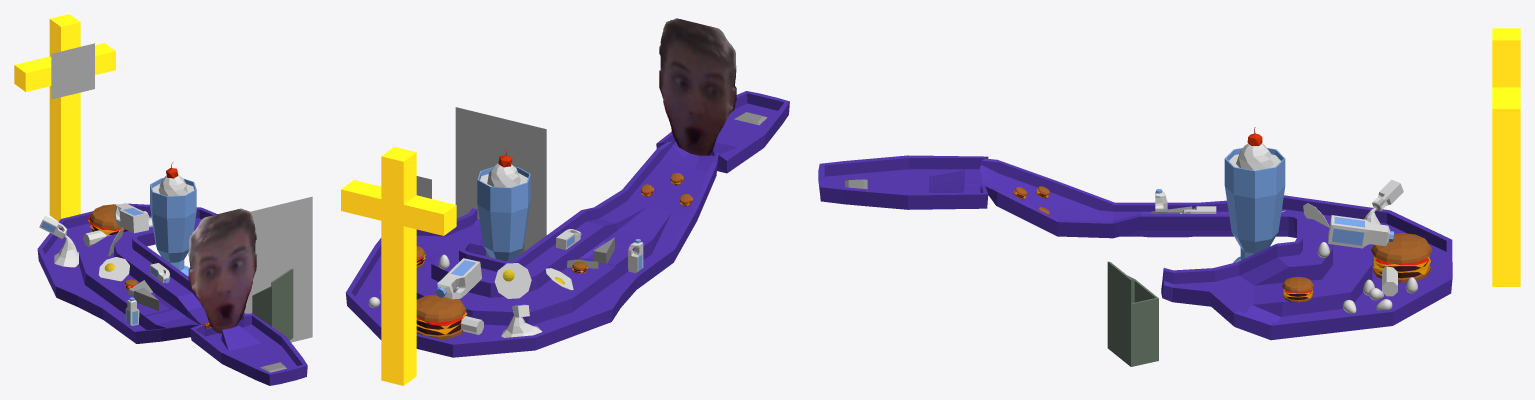
The model's file is jackTrack.fbx.
3 views of the same model, side by side, from view 1: azimuth 30°, elevation 25°; view 2: azimuth 150°, elevation 25°; view 3: azimuth 270°, elevation 25° (orthographic). The views are drawn at different scales.
Parts seen in each view (by area): view 1: JackTrack, Cross, Plane, Plane.001, Shake.001, Plane.002, Trashbin, Milk.004, DoubleBurgerObby.005, SunnyEgg.001, Spill, Milk.003 (+4 smaller); view 2: JackTrack, Cross, Plane, Plane.001, Shake.001, DoubleBurgerObby.005, Milk.004, SunnyEgg.002, Spill, Milk.002, Milk.001; view 3: JackTrack, Cross, Shake.001, Trashbin, DoubleBurgerObby.005, Milk.004, DoubleBurgerObby.006.
Boxes of the visible parts, x1,y1,x2,y2 form: JackTrack: (37,203,307,385); Cross: (14,14,115,221); Plane: (188,208,256,333); Plane.001: (244,196,312,342); Shake.001: (150,162,196,276); Plane.002: (51,43,94,99); Trashbin: (252,268,293,340); Milk.004: (114,203,148,233); DoubleBurgerObby.005: (87,204,128,236); SunnyEgg.001: (98,257,129,281); Spill: (54,235,78,267); Milk.003: (39,215,67,238); JackTrack: (345,91,789,357); Cross: (341,147,456,385); Plane: (659,18,736,155); Plane.001: (455,107,546,251); Shake.001: (477,148,530,260); DoubleBurgerObby.005: (416,294,467,339); Milk.004: (435,258,481,299); SunnyEgg.002: (494,263,531,298); Spill: (501,315,542,337); Milk.002: (628,239,643,273); Milk.001: (556,229,581,249); JackTrack: (818,155,1452,340); Cross: (1492,28,1520,286); Shake.001: (1224,127,1285,262); Trashbin: (1107,261,1158,366); DoubleBurgerObby.005: (1371,233,1432,282); Milk.004: (1328,215,1393,248); DoubleBurgerObby.006: (1282,276,1313,302).
Size of the model in its own units: 4990 by 5190 by 11339.
